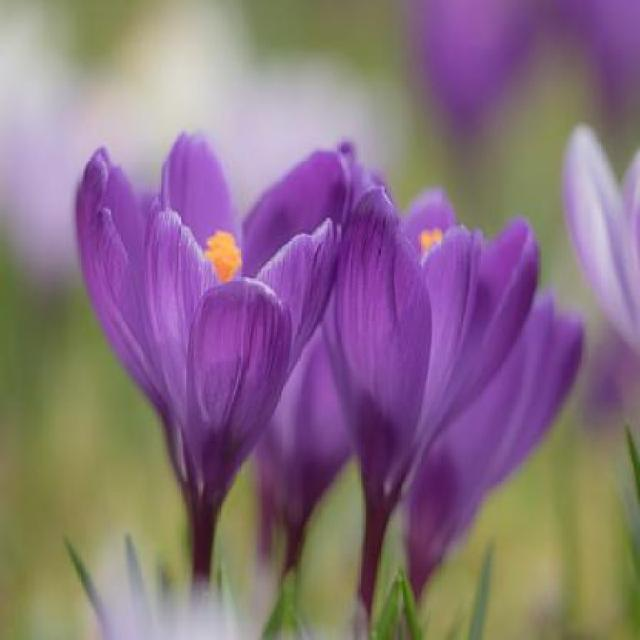Flower: (72, 125, 346, 504), (398, 183, 586, 531)
